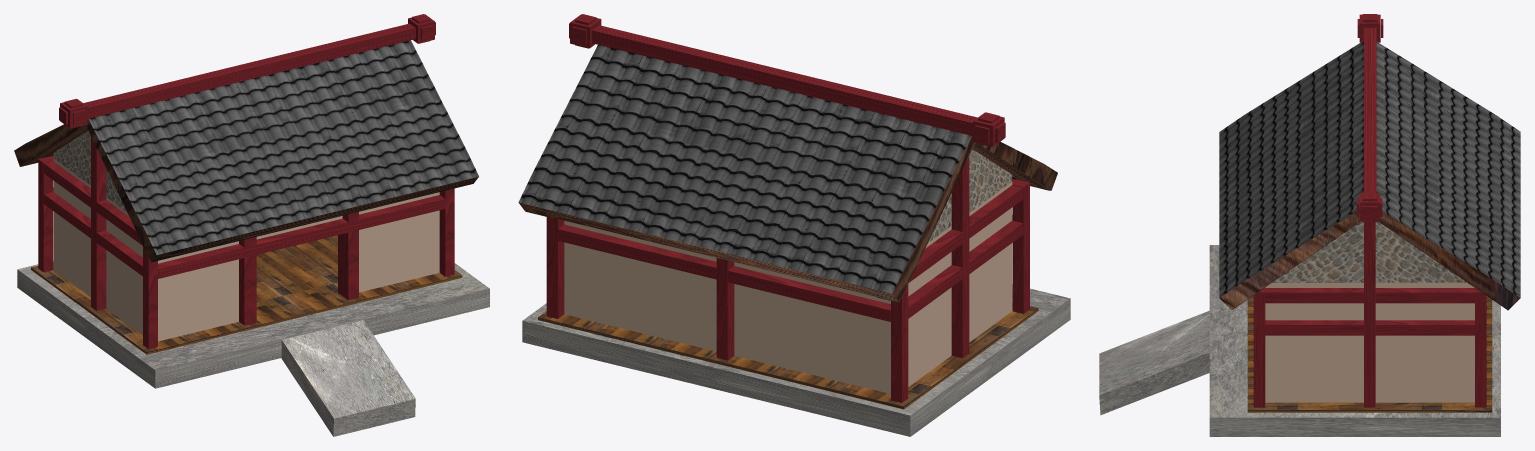
The model's file is house_2.fbx.
3 renders of one model, left to right at view 1: azimuth 30°, elevation 25°; view 2: azimuth 150°, elevation 25°; view 3: azimuth 270°, elevation 25°, orthographic. The views are drawn at different scales.
Parts seen in each view (by area): view 1: polySurface69; view 2: polySurface69; view 3: polySurface69.
Part boxes in pixels (x1,y1,x2,y2): polySurface69: (14, 14, 489, 436); polySurface69: (518, 14, 1070, 436); polySurface69: (1099, 14, 1520, 436).
Bounding box in the file's own units: 38.69 × 27.29 × 36.16.
7 materials, 6 textured.
